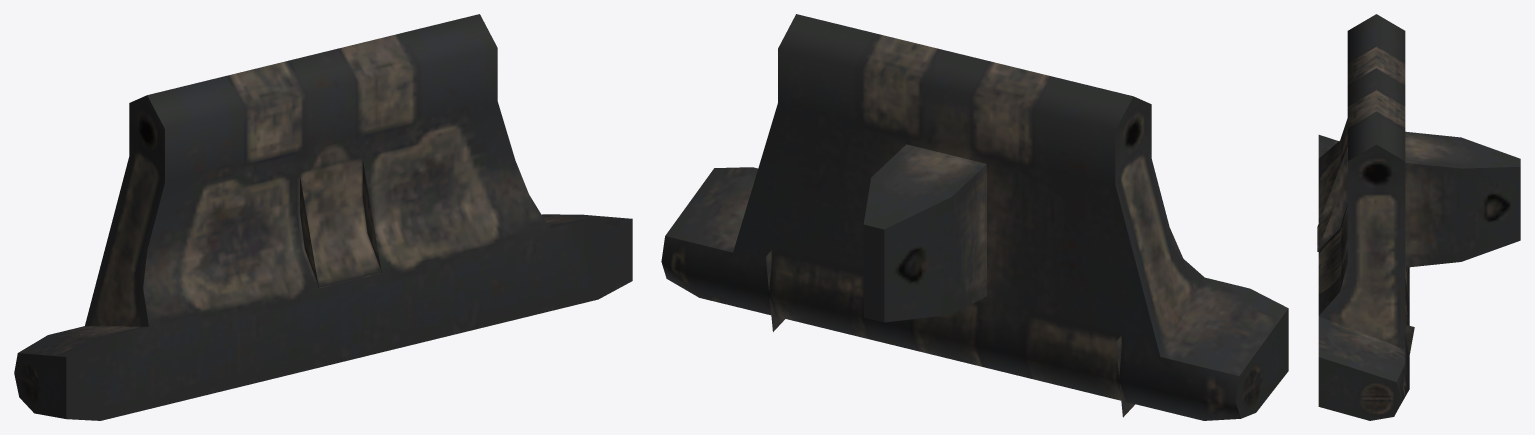
3 renders of one model, left to right at view 1: azimuth 30°, elevation 25°; view 2: azimuth 150°, elevation 25°; view 3: azimuth 270°, elevation 25°, orthographic. The views are drawn at different scales.
Visible parts, largest first — view 1: set_0_group_0; view 2: set_0_group_0; view 3: set_0_group_0.
Boxes of the visible parts, left/top/right/bottom form: set_0_group_0: left=14, top=14, right=632, bottom=420; set_0_group_0: left=661, top=14, right=1288, bottom=420; set_0_group_0: left=1317, top=14, right=1520, bottom=420.
Size of the model in its own units: 0.5002 by 0.256 by 0.1936.
1 material, 1 textured.
